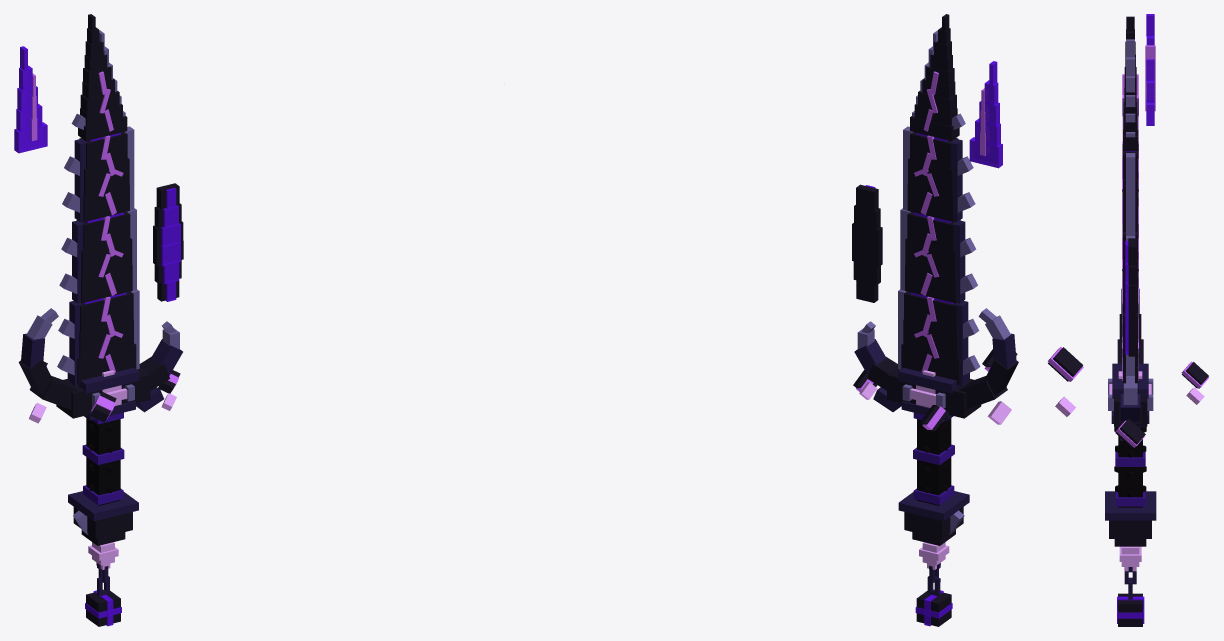
The model's file is voidfang.obj.
The picture shows the model from 3 angles, left to right: view 1: azimuth 30°, elevation 25°; view 2: azimuth 150°, elevation 25°; view 3: azimuth 270°, elevation 25°; orthographic projection.
Visible parts, largest first — view 1: grip_1, blade_0_42, blade_0_40, blade_1_53, guard_18, blade_1_52, blade_0_41, blade_1_54, pommel_9, blade_2_66, blade_2_65, blade_2_67 (+10 smaller); view 2: grip_1, blade_0_42, guard_18, blade_1_53, blade_0_40, blade_0_41, blade_1_52, blade_1_54, pommel_9, blade_2_66, blade_2_65, blade_2_67 (+10 smaller); view 3: grip_1, pommel_9, blade_2_68, pommel_10, guard_19, void_cube_139, fragment_2_101, claw_R_37, guard_18, fragment_0_98, grip_7, grip_6 (+7 smaller).
Part boxes in pixels (x1,y1,x2,y2): grip_1: (86,418,120,505); blade_0_42: (80,291,133,333); blade_0_40: (77,343,136,385); blade_1_53: (81,238,132,277); guard_18: (56,367,150,418); blade_1_52: (81,265,132,303); blade_0_41: (79,320,133,357); blade_1_54: (76,212,130,250); pommel_9: (68,491,138,521); blade_2_66: (84,158,129,196); blade_2_65: (83,185,129,221); blade_2_67: (79,132,127,169); grip_1: (917,418,951,505); blade_0_42: (904,291,957,333); guard_18: (887,367,981,418); blade_1_53: (905,238,956,277); blade_0_40: (901,343,959,385); blade_0_41: (903,319,957,357); blade_1_52: (905,265,956,303); blade_1_54: (907,212,960,250); pommel_9: (898,491,969,521); blade_2_66: (908,158,953,196); blade_2_65: (907,185,953,221); blade_2_67: (910,132,958,169); grip_1: (1118,427,1142,507); pommel_9: (1105,491,1156,520); blade_2_68: (1126,153,1135,235); pommel_10: (1109,520,1151,538); guard_19: (1112,363,1148,398); void_cube_139: (1118,593,1142,626); fragment_2_101: (1048,347,1083,381); claw_R_37: (1120,394,1140,421); guard_18: (1114,396,1147,426); fragment_0_98: (1115,419,1145,448); grip_7: (1115,445,1145,466); grip_6: (1116,485,1145,506).
Bounding box in the file's own units: 3.32 × 4.14 × 1.01.
